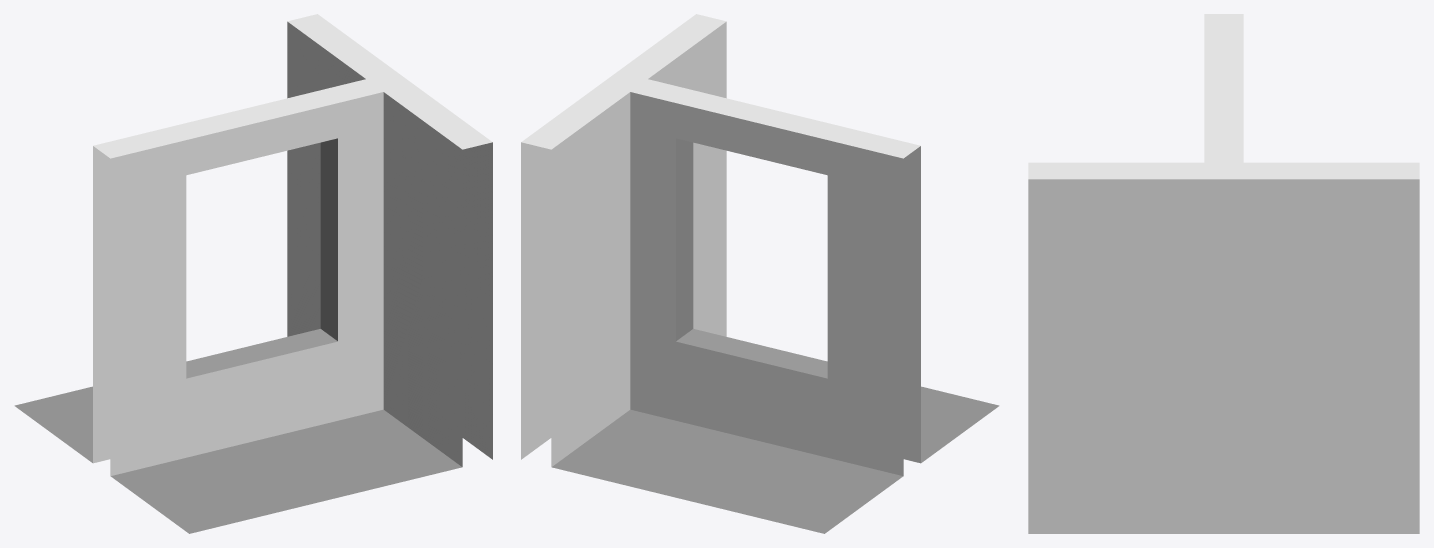
Rendered from E_Wall_T_Shape_Window.fbx.
3 views of the same model, side by side, from view 1: azimuth 30°, elevation 25°; view 2: azimuth 150°, elevation 25°; view 3: azimuth 270°, elevation 25° (orthographic). The views are drawn at different scales.
Visible parts, largest first — view 1: E_Wall_T_Shape_Window; view 2: E_Wall_T_Shape_Window; view 3: E_Wall_T_Shape_Window.
Part boxes in pixels (<box>): E_Wall_T_Shape_Window: <box>14,14,492,533</box>; E_Wall_T_Shape_Window: <box>521,14,999,533</box>; E_Wall_T_Shape_Window: <box>1028,14,1419,533</box>.
Bounding box in the file's own units: 200 × 200 × 200.
